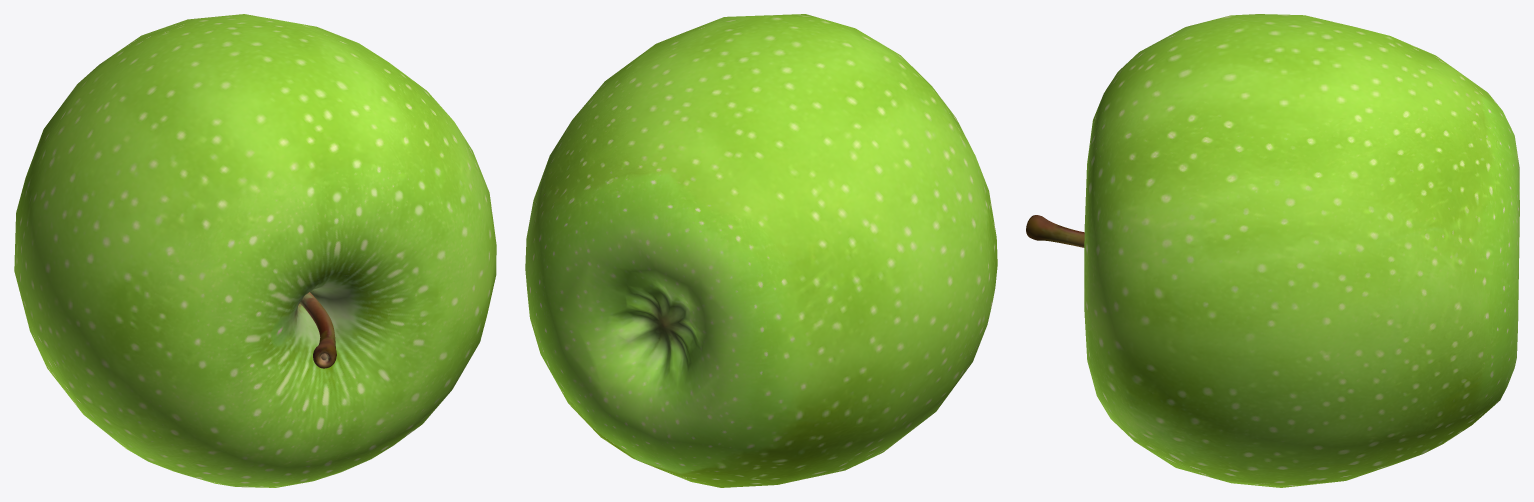
File: green_apple.obj
3 renders of one model, left to right at view 1: azimuth 30°, elevation 25°; view 2: azimuth 150°, elevation 25°; view 3: azimuth 270°, elevation 25°, orthographic. The views are drawn at different scales.
Visible parts, largest first — view 1: green_apple; view 2: green_apple; view 3: green_apple.
Part boxes in pixels (x1,y1,x2,y2): green_apple: (14,14,496,487); green_apple: (525,14,997,487); green_apple: (1026,14,1519,487).
Bounding box in the file's own units: 0.0661 × 0.0663 × 0.0687.
1 material, 1 textured.
